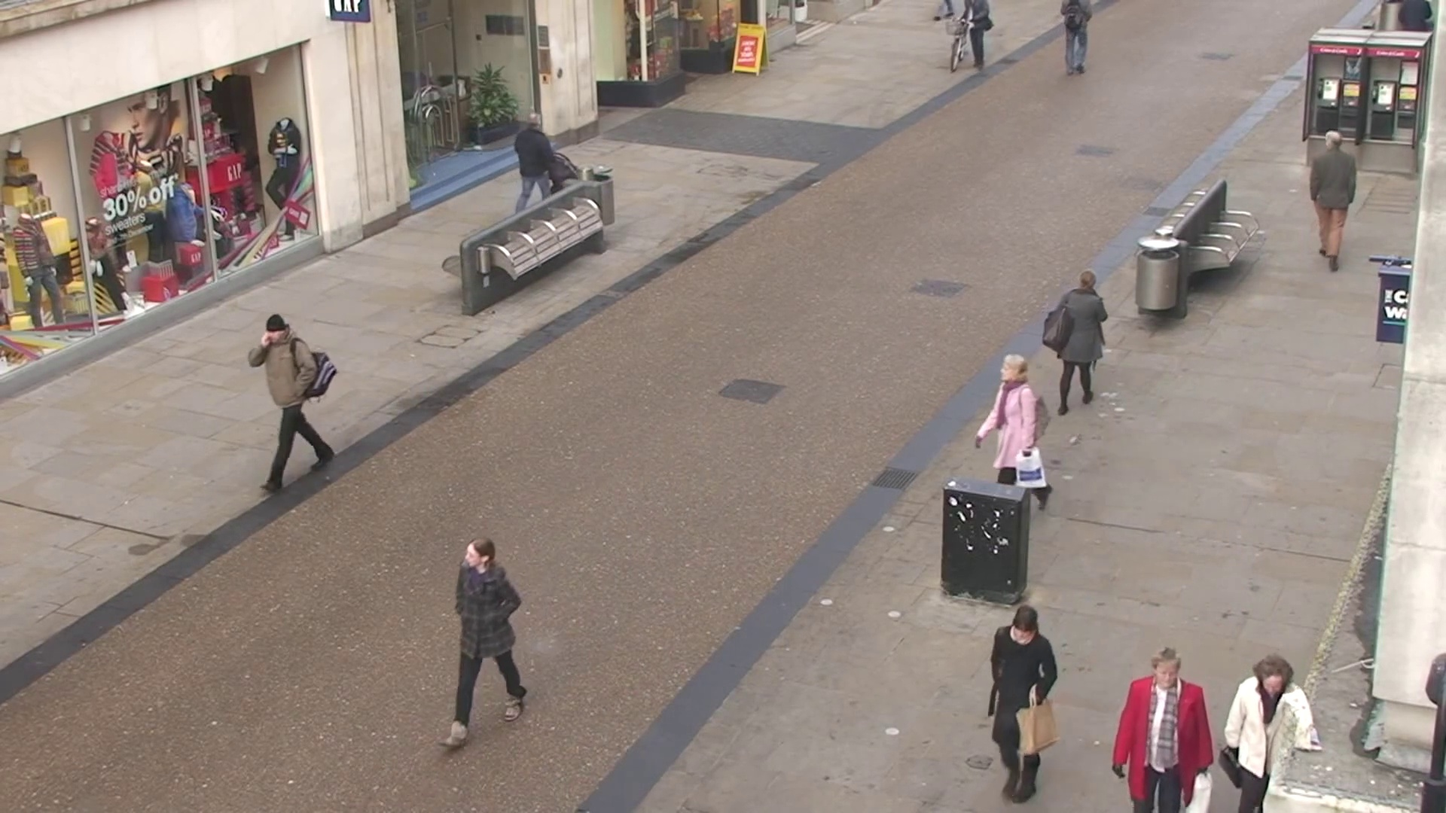person: (443, 537, 529, 744), (1110, 646, 1216, 811), (1222, 653, 1316, 812), (251, 312, 334, 492), (987, 601, 1060, 804), (974, 356, 1051, 492), (1049, 271, 1110, 410), (1310, 130, 1359, 273), (511, 115, 569, 218), (264, 117, 307, 239), (958, 1, 994, 70), (1060, 0, 1092, 75)
